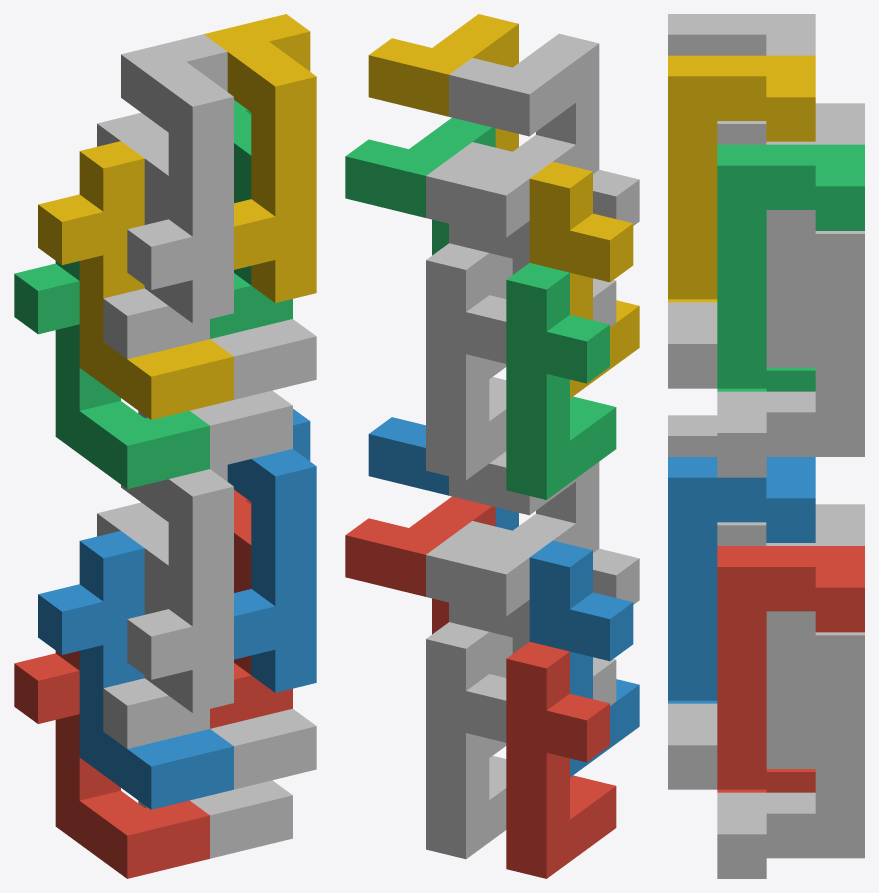
Rendered from tiling.obj.
3 renders of one model, left to right at view 1: azimuth 30°, elevation 25°; view 2: azimuth 150°, elevation 25°; view 3: azimuth 270°, elevation 25°, orthographic. The views are drawn at different scales.
Parts seen in each view (by area): view 1: copy_2_domain_4, copy_2_domain_8, copy_1_domain_4, copy_1_domain_2, copy_2_domain_2, copy_2_domain_6, copy_1_domain_1, copy_1_domain_3, copy_2_domain_1, copy_2_domain_3, copy_1_domain_6, copy_1_domain_8 (+4 smaller); view 2: copy_1_domain_1, copy_1_domain_3, copy_1_domain_7, copy_1_domain_5, copy_2_domain_4, copy_1_domain_2, copy_1_domain_4, copy_2_domain_3, copy_2_domain_1, copy_2_domain_8, copy_2_domain_5, copy_2_domain_7 (+4 smaller); view 3: copy_2_domain_7, copy_2_domain_8, copy_2_domain_5, copy_1_domain_5, copy_1_domain_7, copy_2_domain_6, copy_1_domain_8, copy_1_domain_6, copy_2_domain_4, copy_2_domain_1, copy_2_domain_3, copy_2_domain_2 (+2 smaller).
Boxes of the visible parts, <box> form: copy_2_domain_4: <box>121,34,233,323</box>; copy_2_domain_8: <box>204,14,316,302</box>; copy_1_domain_4: <box>38,141,233,419</box>; copy_1_domain_2: <box>38,531,233,809</box>; copy_2_domain_2: <box>121,465,233,712</box>; copy_2_domain_6: <box>227,409,316,692</box>; copy_1_domain_1: <box>14,651,209,878</box>; copy_1_domain_3: <box>14,261,209,488</box>; copy_2_domain_1: <box>97,502,209,748</box>; copy_2_domain_3: <box>97,112,209,359</box>; copy_1_domain_6: <box>163,520,316,789</box>; copy_1_domain_8: <box>163,130,316,399</box>; copy_1_domain_1: <box>506,641,616,878</box>; copy_1_domain_3: <box>506,263,616,499</box>; copy_1_domain_7: <box>426,243,506,480</box>; copy_1_domain_5: <box>426,622,506,859</box>; copy_2_domain_4: <box>449,33,639,225</box>; copy_1_domain_2: <box>529,540,639,777</box>; copy_1_domain_4: <box>529,161,639,398</box>; copy_2_domain_3: <box>426,135,616,326</box>; copy_2_domain_1: <box>426,514,616,705</box>; copy_2_domain_8: <box>368,14,518,151</box>; copy_2_domain_5: <box>345,496,495,634</box>; copy_2_domain_7: <box>345,117,495,255</box>; copy_2_domain_7: <box>717,144,864,388</box>; copy_2_domain_8: <box>668,55,815,299</box>; copy_2_domain_5: <box>717,546,864,789</box>; copy_1_domain_5: <box>717,632,864,878</box>; copy_1_domain_7: <box>717,231,864,477</box>; copy_2_domain_6: <box>668,457,815,700</box>; copy_1_domain_8: <box>668,141,815,388</box>; copy_1_domain_6: <box>668,543,815,789</box>; copy_2_domain_4: <box>668,14,815,55</box>; copy_2_domain_1: <box>717,504,864,545</box>; copy_2_domain_3: <box>717,103,864,144</box>; copy_2_domain_2: <box>668,415,717,456</box>.
Size of the model in its own units: 6 by 18 by 4.
